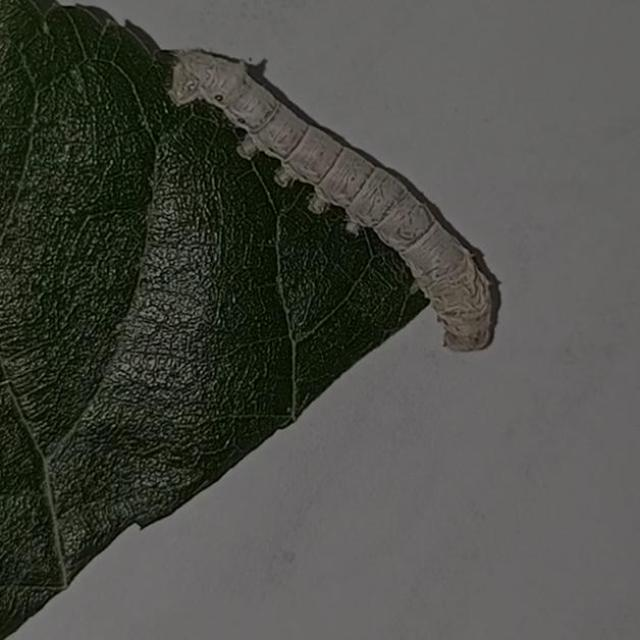Healthy: (159, 36, 501, 352)
